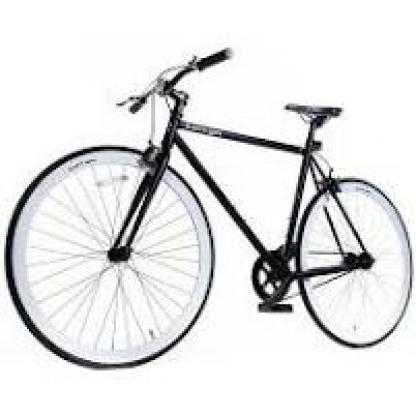Bike: (2, 46, 416, 370)
